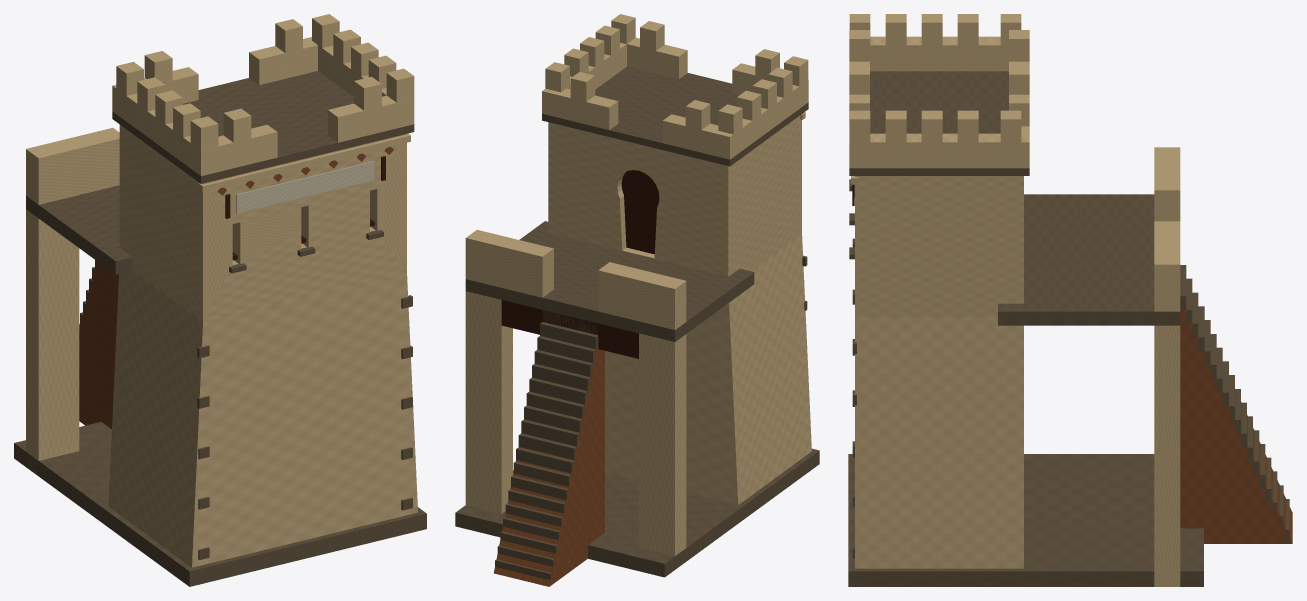
The model's file is Berber_WallTower_Age3_arrow.fbx.
3 renders of one model, left to right at view 1: azimuth 30°, elevation 25°; view 2: azimuth 150°, elevation 25°; view 3: azimuth 270°, elevation 25°, orthographic. The views are drawn at different scales.
Parts seen in each view (by area): view 1: battered_front_tower, front_upper_chamber, rear_support_west, ground_stone_plinth, roof_platform, rear_walk_parapet, stair_ramp_support, through_walk_deck, roof_side_parapet, owner_front_banner, roof_front_split_parapet.003, roof_front_split_parapet.001 (+18 smaller); view 2: battered_front_tower, front_upper_chamber, rear_support_west, through_walk_deck, rear_support_east, ground_stone_plinth, stair_ramp_support, roof_platform, rear_walk_parapet_east, rear_walk_parapet, rear_bearer, rear_horseshoe_chamber_door (+38 smaller); view 3: battered_front_tower, front_upper_chamber, ground_stone_plinth, through_walk_deck, stair_ramp_support, roof_platform, rear_support_east, roof_side_parapet.001, roof_side_parapet, rear_walk_parapet_east, rear_walk_parapet, roof_side_merlon.006 (+11 smaller).
Boxes of the visible parts, box(x1,y1,x2,y2) form: battered_front_tower: box(108, 271, 417, 567); front_upper_chamber: box(119, 125, 406, 322); rear_support_west: box(26, 209, 79, 474); ground_stone_plinth: box(14, 422, 426, 586); roof_platform: box(112, 71, 414, 183); rear_walk_parapet: box(26, 127, 119, 204); stair_ramp_support: box(79, 262, 118, 429); through_walk_deck: box(26, 185, 132, 274); roof_side_parapet: box(112, 85, 218, 176); owner_front_banner: box(236, 161, 374, 213); roof_front_split_parapet.003: box(249, 38, 317, 84); roof_front_split_parapet.001: box(328, 95, 396, 142); battered_front_tower: box(605, 235, 811, 504); front_upper_chamber: box(548, 115, 801, 276); rear_support_west: box(639, 333, 686, 555); through_walk_deck: box(465, 221, 754, 341); rear_support_east: box(465, 291, 512, 513); ground_stone_plinth: box(455, 448, 819, 577); stair_ramp_support: box(494, 340, 604, 586); roof_platform: box(542, 66, 808, 166); rear_walk_parapet_east: box(465, 230, 553, 297); rear_walk_parapet: box(598, 262, 686, 329); rear_bearer: box(501, 300, 638, 358); rear_horseshoe_chamber_door: box(621, 170, 659, 254); battered_front_tower: box(855, 317, 1023, 568); front_upper_chamber: box(855, 176, 1023, 317); ground_stone_plinth: box(848, 454, 1203, 586); through_walk_deck: box(998, 194, 1180, 325); stair_ramp_support: box(1180, 310, 1292, 543); roof_platform: box(849, 71, 1029, 175); rear_support_east: box(1154, 325, 1180, 586); roof_side_parapet.001: box(849, 133, 1029, 168); roof_side_parapet: box(870, 36, 1008, 71); rear_walk_parapet_east: box(1154, 221, 1180, 311); rear_walk_parapet: box(1154, 147, 1180, 221); roof_side_merlon.006: box(885, 110, 906, 142).
Size of the model in its own units: 640 by 1174 by 1024.
Materials: 6 (6 with a texture image).
